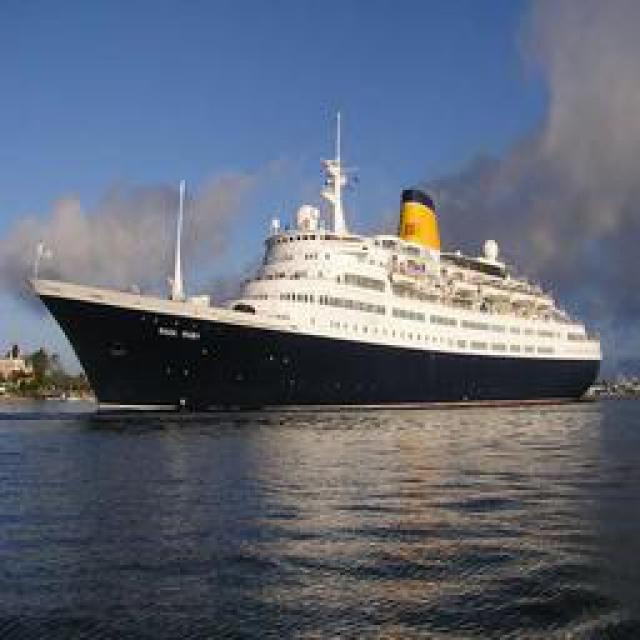Ship: (40, 146, 598, 409)
